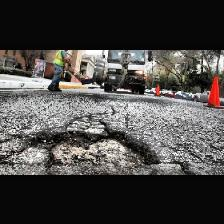pothole: (28, 128, 162, 174)
